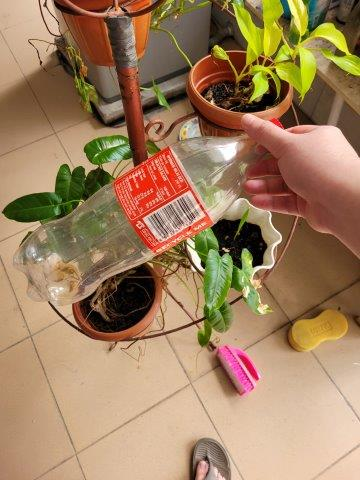botolplastik: (16, 122, 268, 302)
